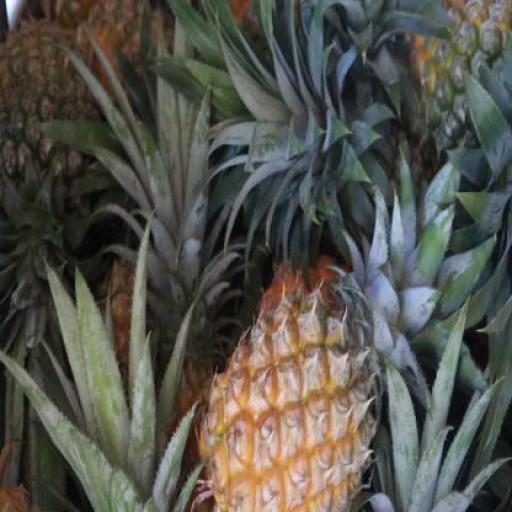Pineapple - v8 v1: (202, 275, 383, 511)
